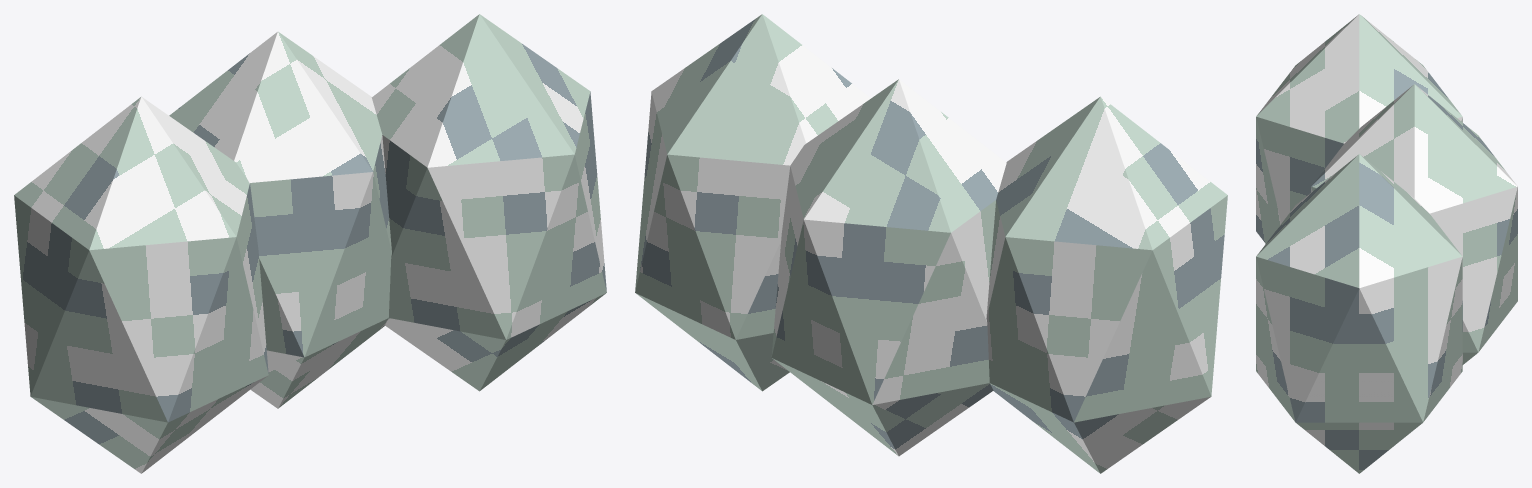
File: a85_ovo_de_grifo.glb
3 renders of one model, left to right at view 1: azimuth 30°, elevation 25°; view 2: azimuth 150°, elevation 25°; view 3: azimuth 270°, elevation 25°, orthographic. The views are drawn at different scales.
Visible parts, largest first — view 1: a85_ovo_de_grifo; view 2: a85_ovo_de_grifo; view 3: a85_ovo_de_grifo.
Boxes of the visible parts, box(x1,y1,x2,y2) form: a85_ovo_de_grifo: box(14, 14, 606, 473); a85_ovo_de_grifo: box(635, 14, 1227, 473); a85_ovo_de_grifo: box(1256, 14, 1517, 473).
Bounding box in the file's own units: 0.9935 × 0.64 × 0.4743.
1 material, 1 textured.
